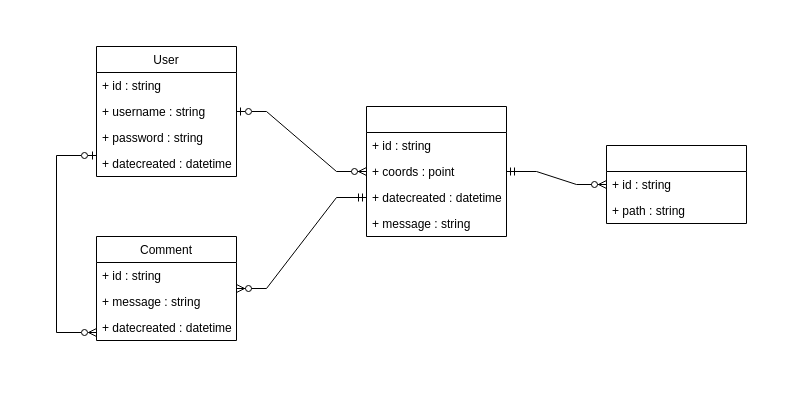
Some shapes in this 803 by 403 pixel diagram are drawn without their labels. The shapes that lost their labels are listed below. From the top down, each one's box as (x1, y1, x2, y2) in pixels, then its label:
(366, 106, 506, 236): Pin
(606, 144, 746, 224): Image
